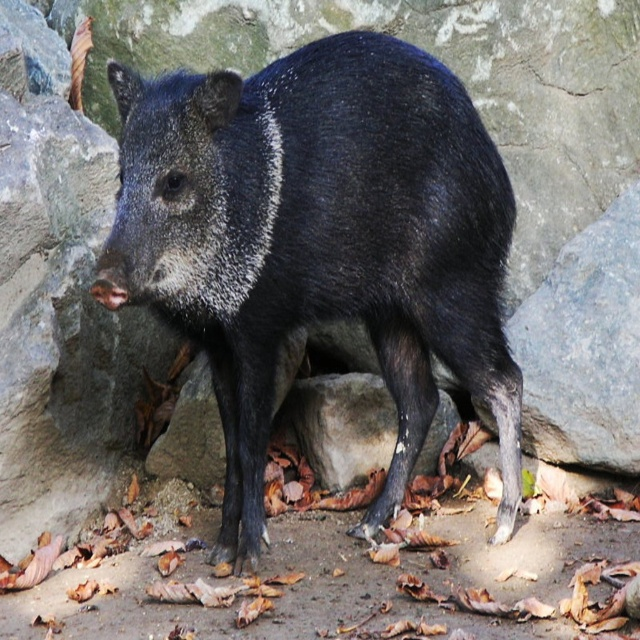Pig: (88, 28, 524, 577)
